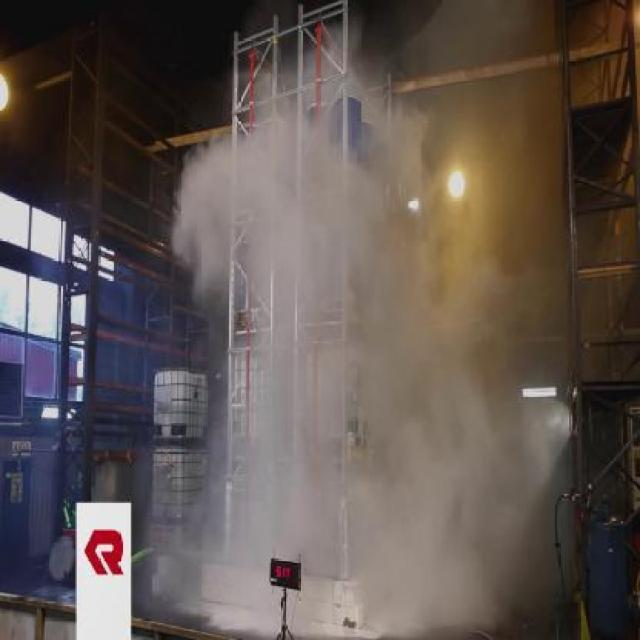fire: (148, 114, 562, 640)
